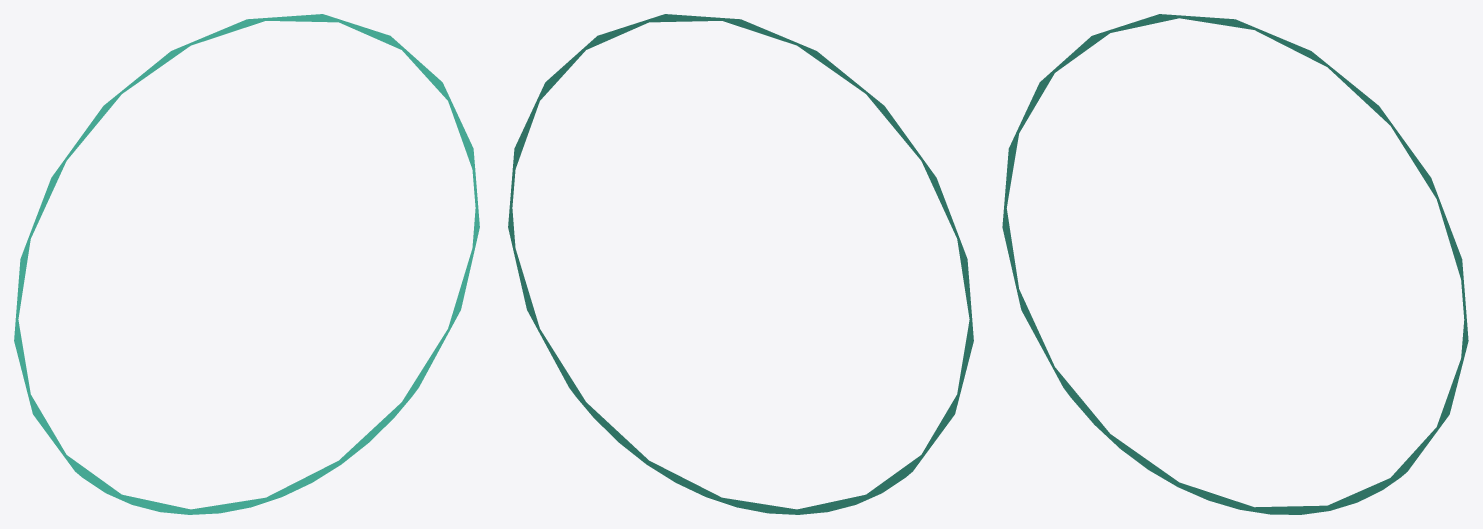
Rendered from kuka_link_6_vis_6.dae.
3 renders of one model, left to right at view 1: azimuth 30°, elevation 25°; view 2: azimuth 150°, elevation 25°; view 3: azimuth 330°, elevation 25°, orthographic.
Parts seen in each view (by area): view 1: Node_0000015C5C912E10; view 2: Node_0000015C5C912E10; view 3: Node_0000015C5C912E10.
Boxes of the visible parts, bbox=[...] form: Node_0000015C5C912E10: bbox=[14, 14, 479, 514]; Node_0000015C5C912E10: bbox=[508, 14, 973, 514]; Node_0000015C5C912E10: bbox=[1002, 14, 1468, 514].
Size of the model in its own units: 0.1355 by 0.136 by 1.49e-08.
